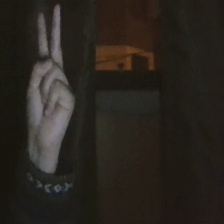V: (15, 1, 83, 151)
